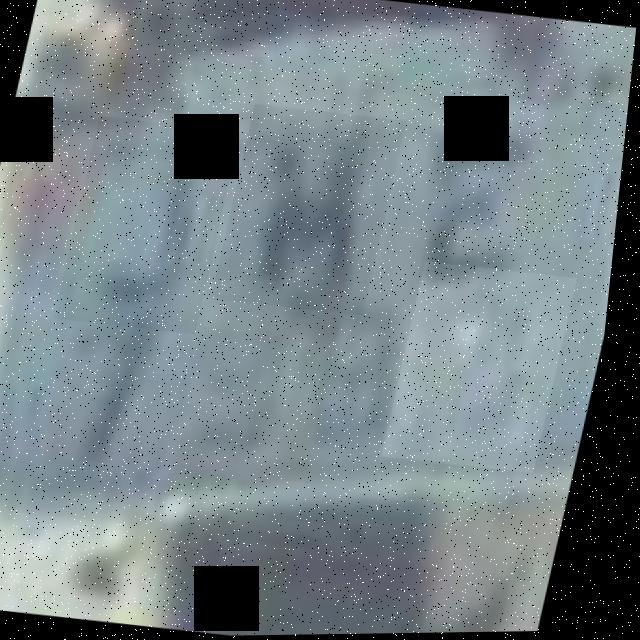0: (389, 261, 585, 476)
7: (16, 269, 205, 526)
B: (215, 103, 411, 318)
J: (58, 114, 244, 336)
N: (214, 102, 408, 326)
